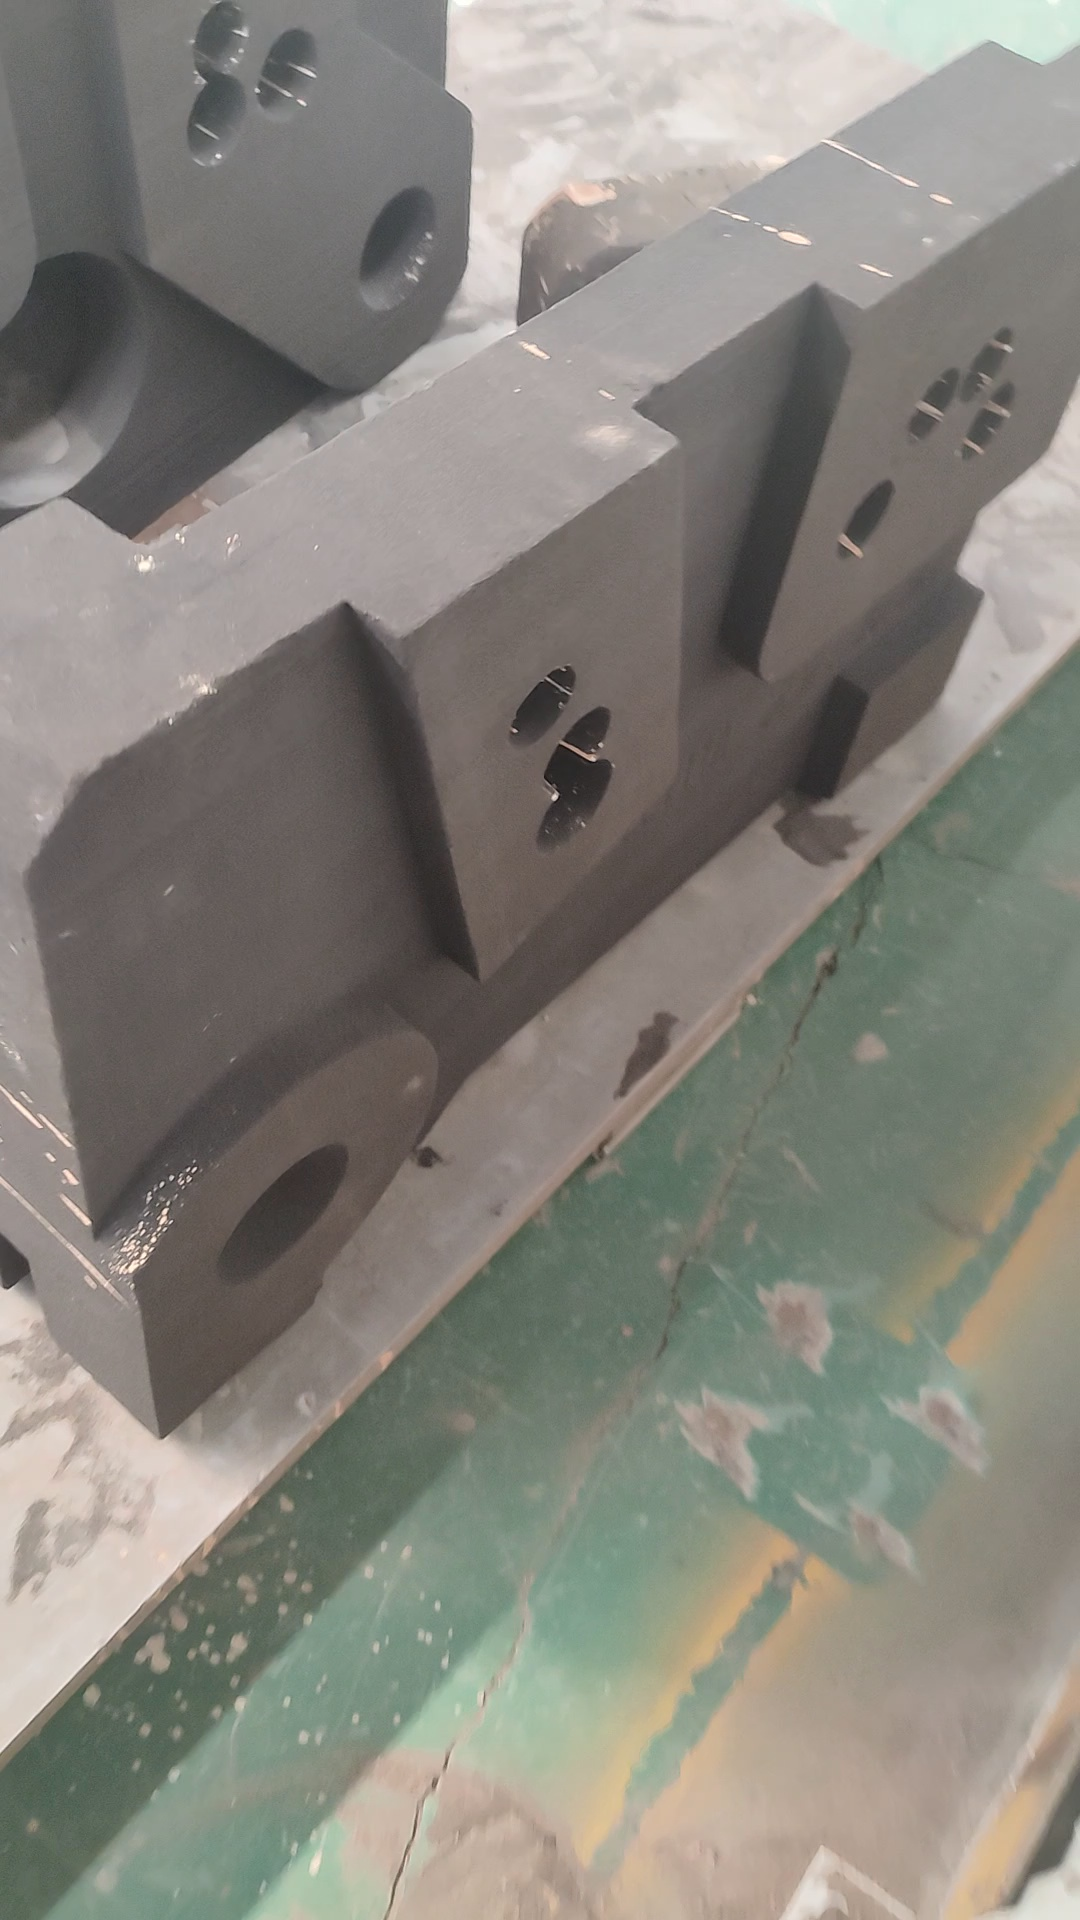pouring hole: (218, 1142, 349, 1282), (357, 189, 438, 309)
